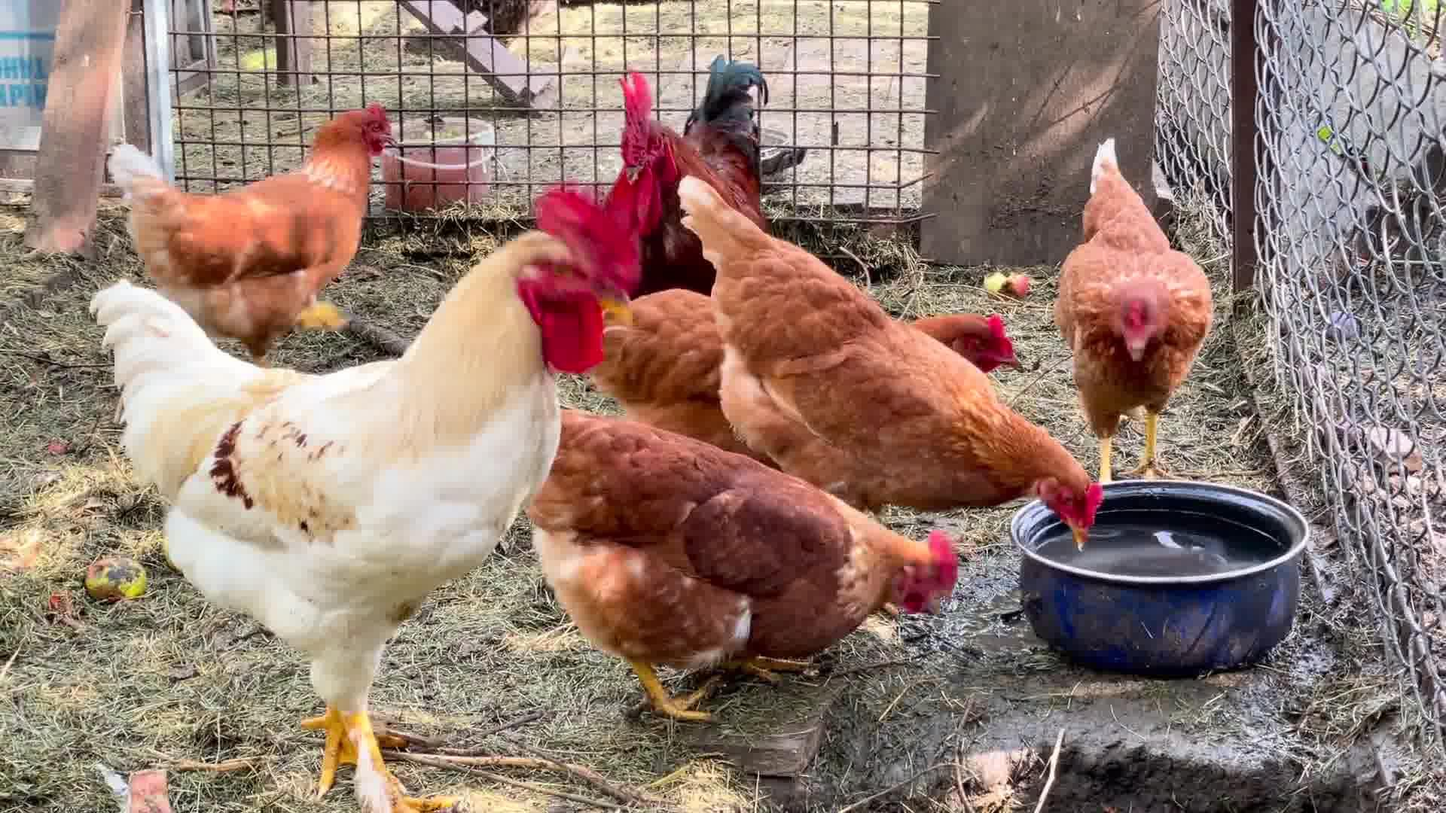Normal: (111, 179, 641, 813), (676, 179, 1129, 553), (561, 414, 959, 729), (102, 93, 402, 362), (1051, 121, 1221, 491), (610, 51, 784, 306), (923, 286, 1043, 386)
